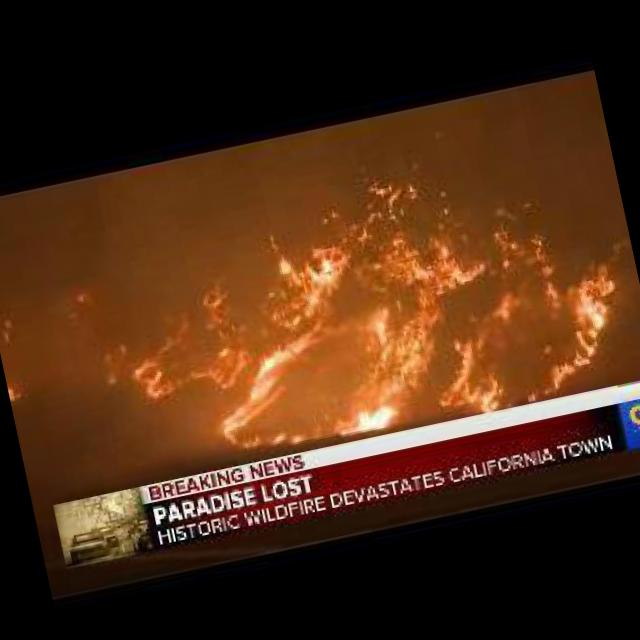fire: (130, 182, 632, 470), (315, 160, 458, 240), (6, 378, 26, 401)
